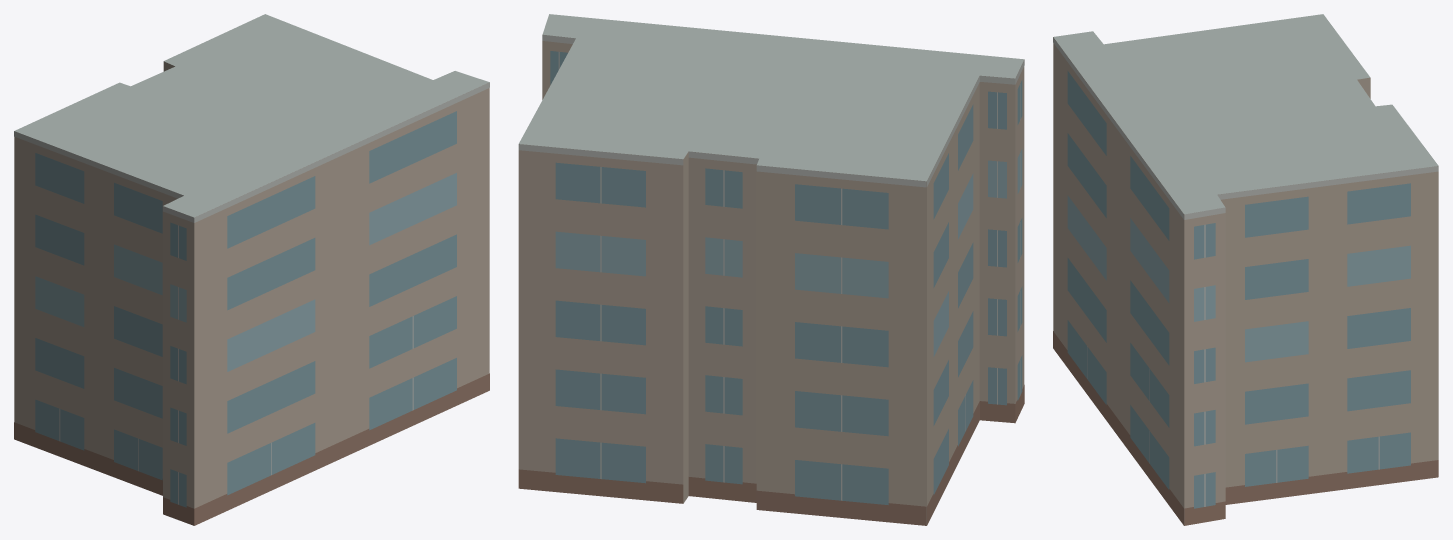
The model's file is survey-upis-32624370.glb.
3 renders of one model, left to right at view 1: azimuth 30°, elevation 25°; view 2: azimuth 150°, elevation 25°; view 3: azimuth 270°, elevation 25°, orthographic. The views are drawn at different scales.
Parts seen in each view (by area): view 1: survey-upis-32624370.tmp; view 2: survey-upis-32624370.tmp; view 3: survey-upis-32624370.tmp.
Part boxes in pixels (<box>): survey-upis-32624370.tmp: <box>14,14,489,525</box>; survey-upis-32624370.tmp: <box>518,14,1024,525</box>; survey-upis-32624370.tmp: <box>1053,14,1438,525</box>.
Size of the model in its own units: 18.79 by 13.6 by 15.27.
